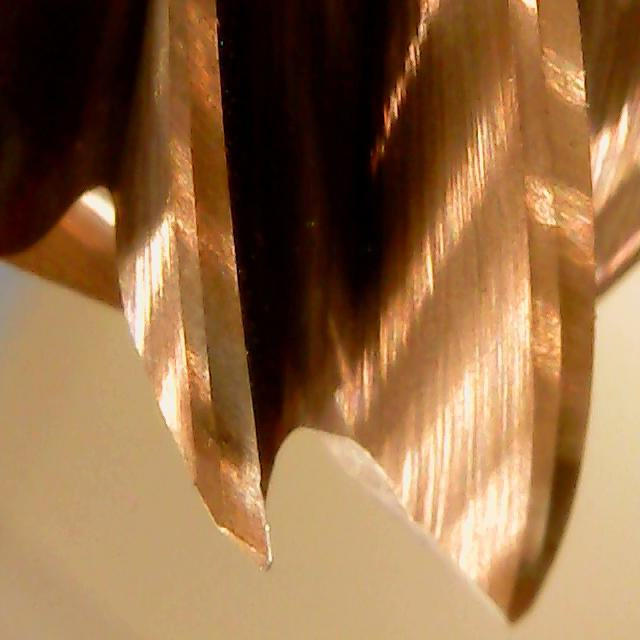Tool-wear-class-0: (167, 170, 291, 571)
